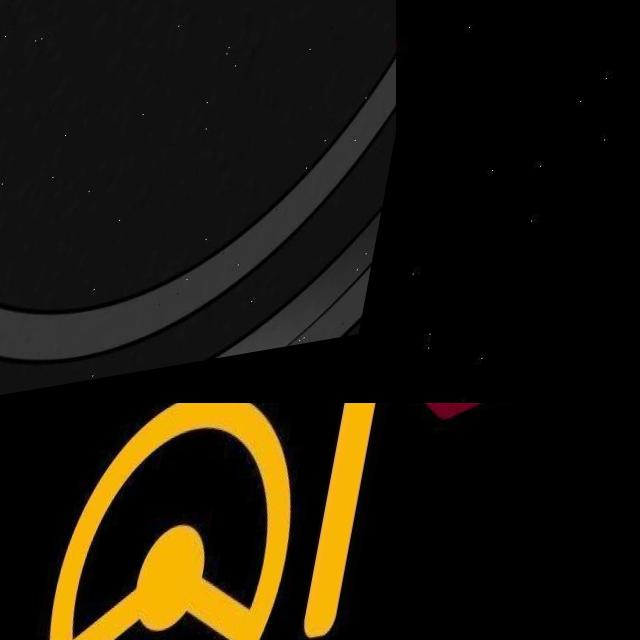Electronic Power Steering: (40, 403, 389, 640)
